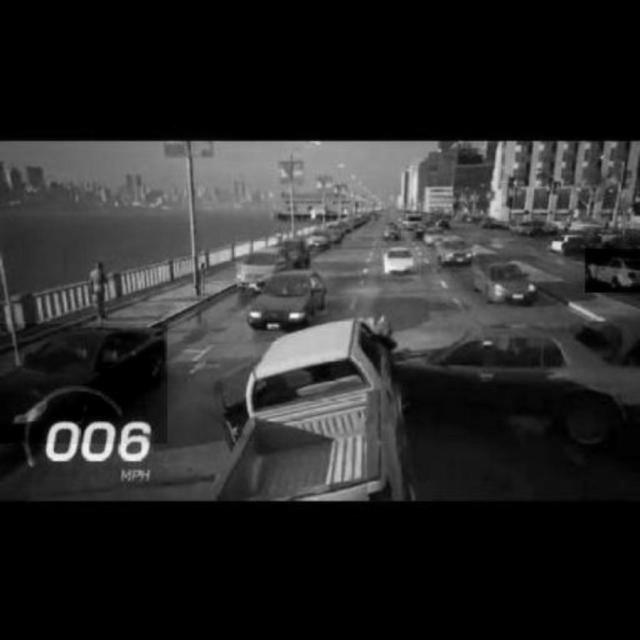accident: (216, 321, 634, 498)
vehicle: (1, 324, 168, 444), (247, 268, 328, 329), (473, 256, 537, 307), (585, 249, 640, 293), (237, 241, 285, 291), (434, 233, 479, 270), (381, 248, 421, 278), (303, 227, 333, 251)
